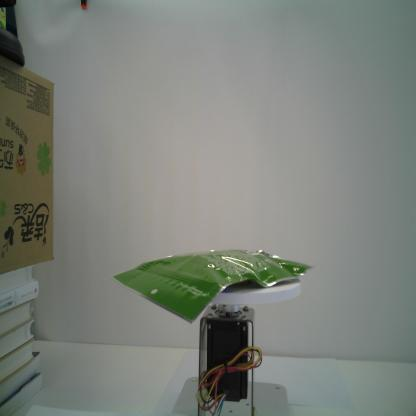Dried Fruit: (109, 245, 319, 326)
